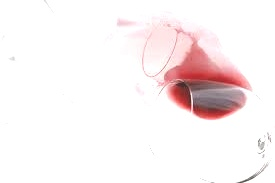wine: (91, 13, 221, 99), (143, 62, 247, 112), (119, 0, 171, 25)
